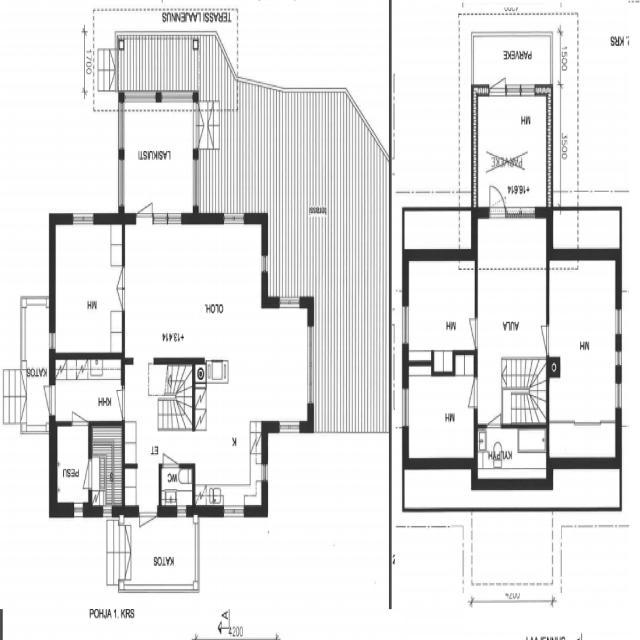door: (488, 181, 507, 217), (114, 263, 127, 312), (42, 379, 58, 418), (133, 197, 155, 224), (137, 504, 158, 530), (466, 314, 481, 349), (192, 100, 202, 151), (467, 375, 480, 414), (80, 459, 94, 495), (488, 72, 508, 97), (112, 385, 127, 416), (538, 321, 552, 353), (160, 447, 180, 469), (69, 406, 89, 428), (487, 410, 503, 431)
window: (304, 318, 318, 412), (158, 88, 196, 107), (275, 414, 305, 437), (121, 88, 159, 106), (68, 207, 98, 229), (504, 202, 538, 221), (151, 208, 184, 227), (505, 78, 537, 97), (115, 99, 126, 154), (220, 208, 248, 229), (220, 500, 248, 521), (116, 154, 126, 212), (276, 292, 304, 312), (613, 342, 624, 392), (190, 157, 200, 209), (400, 301, 411, 348), (400, 382, 410, 431), (613, 304, 624, 340), (613, 380, 624, 412), (259, 458, 270, 485), (260, 249, 270, 276), (71, 501, 86, 519), (47, 327, 57, 352), (174, 503, 190, 518), (101, 504, 115, 520)
zone: (123, 215, 267, 362), (476, 208, 548, 414), (547, 256, 619, 454), (123, 362, 195, 513), (193, 362, 265, 508), (53, 218, 125, 356), (121, 98, 196, 217), (476, 89, 550, 208), (405, 256, 477, 360), (405, 364, 477, 462), (53, 354, 124, 424), (473, 424, 549, 484), (55, 422, 91, 509), (88, 422, 124, 508), (159, 463, 195, 508)
